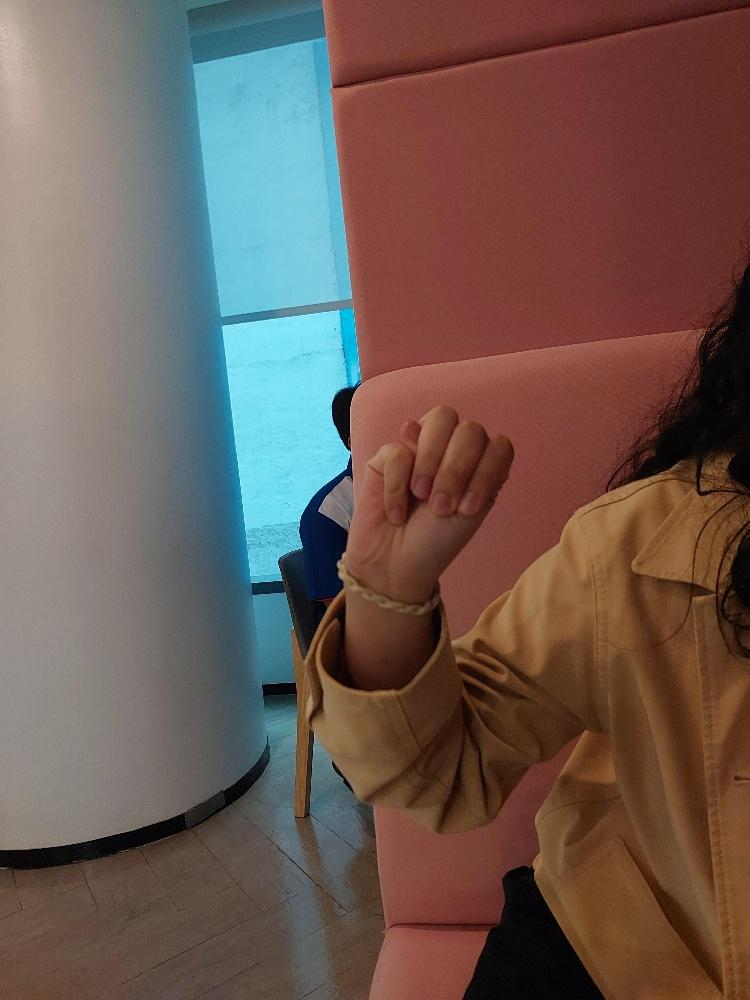m: (340, 392, 521, 602)
